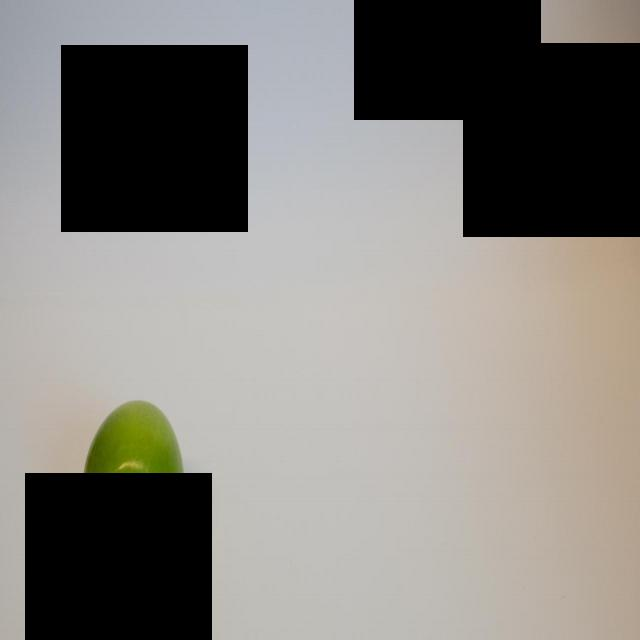apple: (81, 394, 190, 594)
